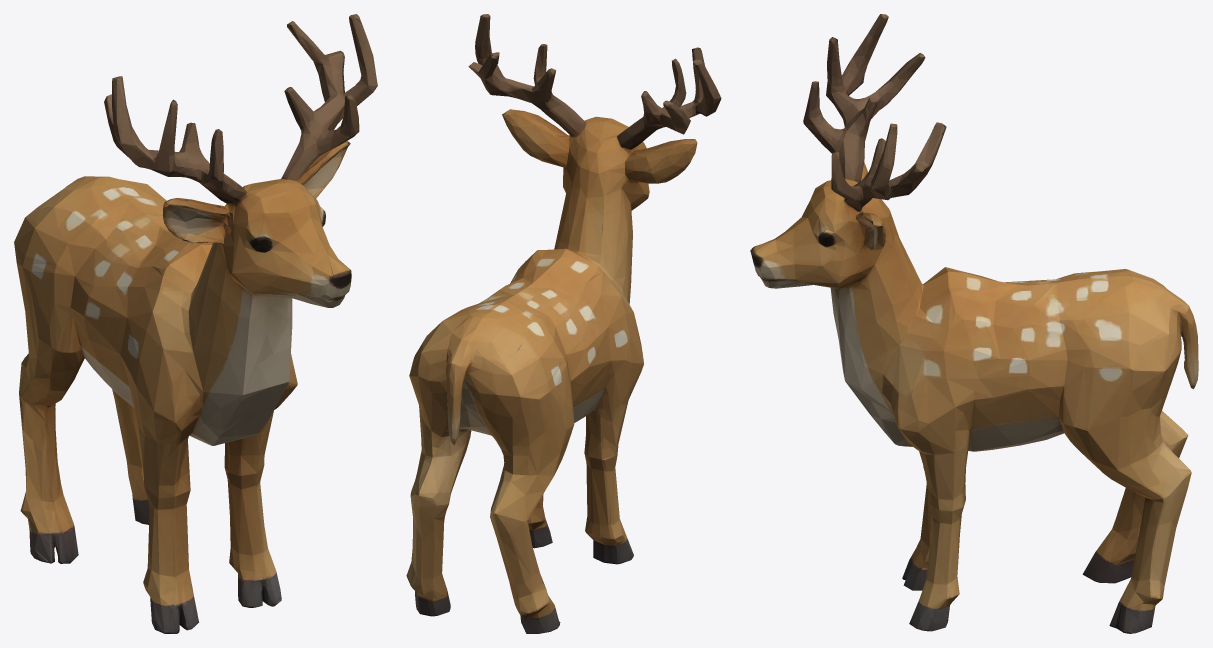
File: deer.glb
3 views of the same model, side by side, from view 1: azimuth 30°, elevation 25°; view 2: azimuth 150°, elevation 25°; view 3: azimuth 270°, elevation 25° (orthographic). The views are drawn at different scales.
Visible parts, largest first — view 1: world; view 2: world; view 3: world.
Boxes of the visible parts, x1,y1,x2,y2 form: world: (14, 14, 377, 633); world: (406, 14, 721, 633); world: (750, 14, 1198, 633).
Bounding box in the file's own units: 0.4821 × 0.9989 × 0.7604.
1 material, 1 textured.
